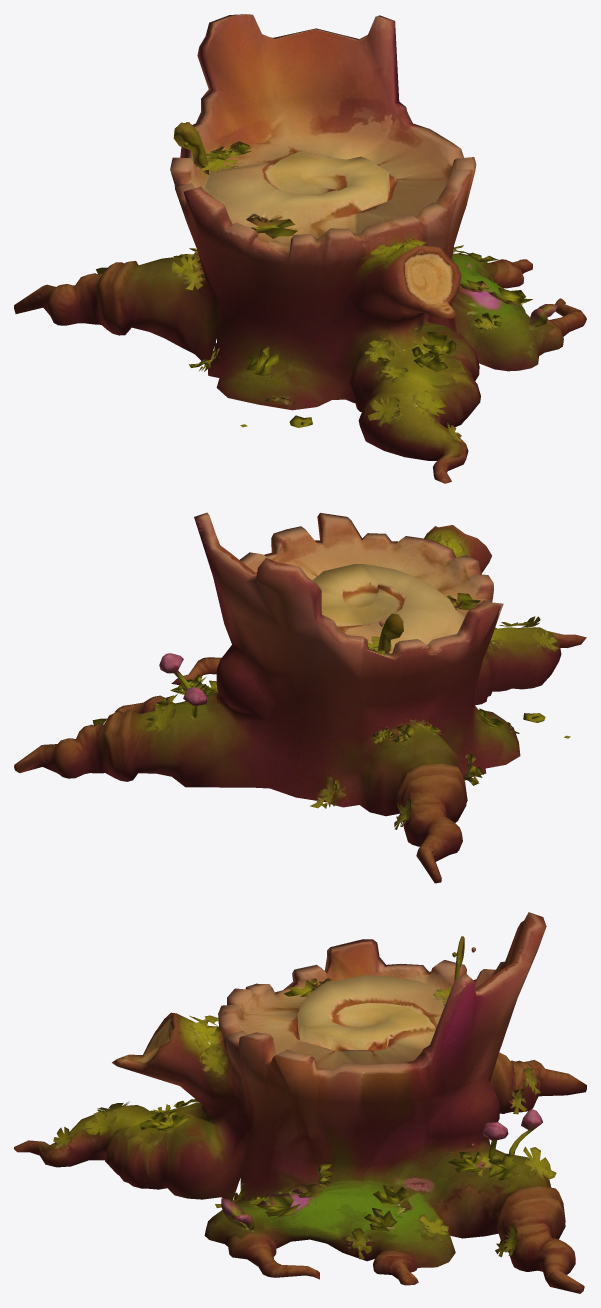
File: tree-stump.glb
3 renders of one model, top to bottom at view 1: azimuth 30°, elevation 25°; view 2: azimuth 150°, elevation 25°; view 3: azimuth 270°, elevation 25°, orthographic. The views are drawn at different scales.
Visible parts, largest first — view 1: tripo_node_f7c7a3e4-6bfa-4c0e-aa52-069eb8bda631; view 2: tripo_node_f7c7a3e4-6bfa-4c0e-aa52-069eb8bda631; view 3: tripo_node_f7c7a3e4-6bfa-4c0e-aa52-069eb8bda631.
Boxes of the visible parts, box(x1,y1,x2,y2) form: tripo_node_f7c7a3e4-6bfa-4c0e-aa52-069eb8bda631: box(14, 14, 586, 483); tripo_node_f7c7a3e4-6bfa-4c0e-aa52-069eb8bda631: box(14, 512, 586, 883); tripo_node_f7c7a3e4-6bfa-4c0e-aa52-069eb8bda631: box(14, 912, 586, 1293).
Size of the model in its own units: 0.877 by 0.502 by 0.998.
1 material, 1 textured.
